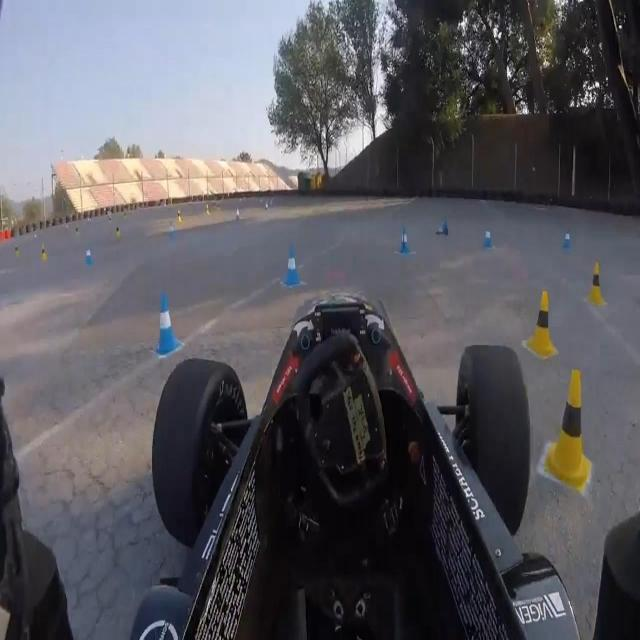blue_cone: (150, 296, 183, 356), (280, 242, 302, 288), (434, 218, 452, 241), (400, 220, 410, 260), (482, 220, 494, 252), (563, 224, 573, 254), (84, 243, 94, 267), (168, 219, 177, 241), (234, 206, 242, 224)
yellow_cone: (544, 366, 592, 508), (521, 282, 560, 359), (586, 255, 607, 308), (41, 241, 48, 262), (114, 223, 122, 241), (13, 244, 21, 257), (74, 223, 80, 238), (176, 209, 182, 223), (205, 204, 210, 216)
